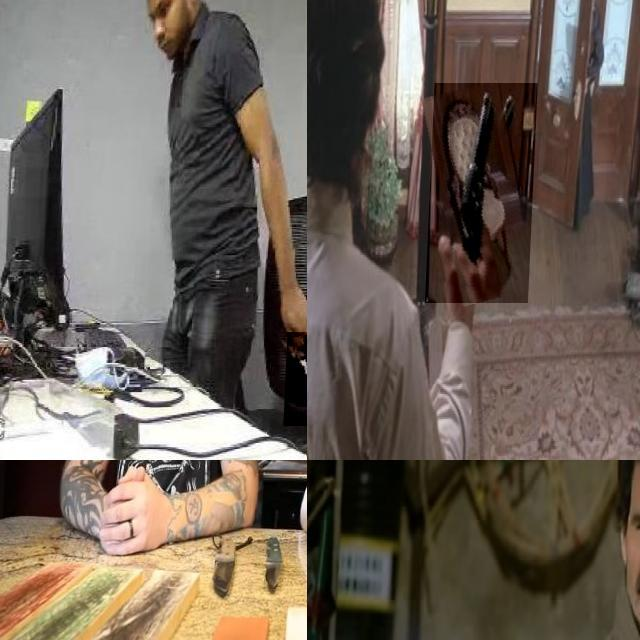-: (289, 332, 307, 426)
gun-knife-thesis - v11 Yolov5 augmented: (429, 83, 540, 303)
